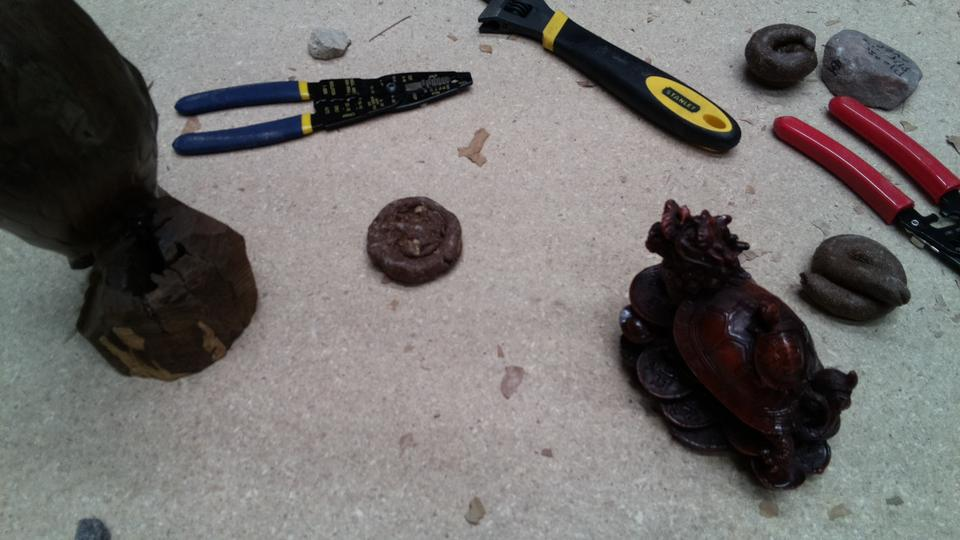poop: (796, 230, 913, 327), (363, 191, 466, 294), (743, 19, 820, 95)
